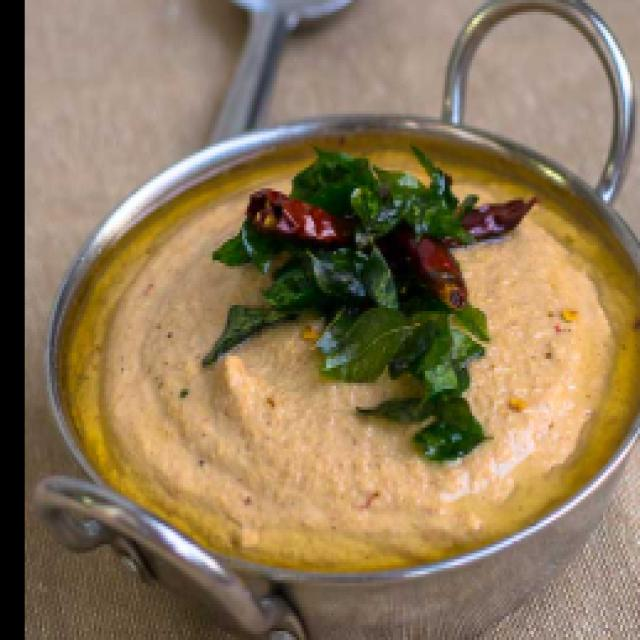peanut chutney: (75, 224, 504, 534)
